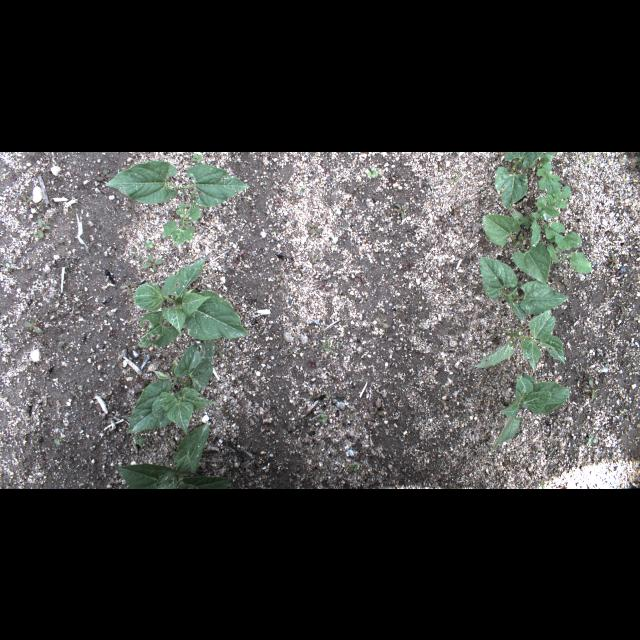crop: (133, 259, 247, 347), (122, 340, 218, 434), (115, 422, 238, 488), (105, 159, 253, 207), (493, 369, 573, 449), (475, 313, 567, 377), (479, 254, 569, 318), (481, 213, 551, 283), (494, 152, 544, 210), (161, 200, 201, 246)
weed: (509, 186, 583, 266), (535, 152, 561, 195), (562, 252, 592, 278), (320, 329, 342, 356), (137, 252, 163, 272), (580, 378, 602, 400), (23, 314, 49, 332), (614, 406, 638, 422), (35, 216, 51, 238), (394, 200, 412, 218), (436, 213, 454, 231), (94, 168, 116, 182), (306, 249, 324, 265), (231, 248, 247, 266), (277, 269, 291, 289), (304, 220, 324, 234), (350, 271, 370, 285), (365, 163, 381, 179), (313, 412, 329, 428), (316, 278, 332, 294), (376, 313, 394, 327), (118, 279, 132, 295), (368, 404, 386, 416), (306, 354, 324, 366), (321, 163, 341, 173), (402, 261, 418, 273), (586, 433, 602, 445), (580, 155, 596, 167), (53, 339, 71, 349), (610, 268, 632, 276), (132, 438, 146, 450), (50, 434, 66, 444), (20, 192, 36, 202), (448, 172, 464, 182), (273, 194, 283, 210), (618, 305, 628, 321), (337, 223, 348, 237), (2, 260, 14, 272), (143, 238, 155, 250), (329, 374, 341, 386), (345, 462, 359, 472), (1, 332, 13, 342), (72, 384, 82, 396), (294, 185, 306, 195), (319, 390, 329, 402), (248, 217, 260, 227), (346, 210, 356, 222), (369, 426, 383, 434), (216, 344, 224, 358), (32, 434, 42, 444), (259, 181, 269, 191), (342, 386, 352, 396), (462, 411, 472, 421), (191, 153, 203, 161), (270, 228, 278, 240), (608, 256, 616, 268), (66, 203, 76, 211), (413, 329, 423, 336), (536, 483, 548, 487)
